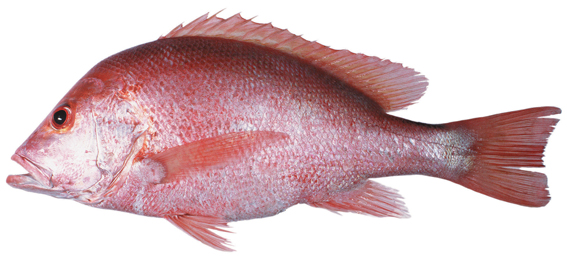fish: (6, 7, 562, 253)
